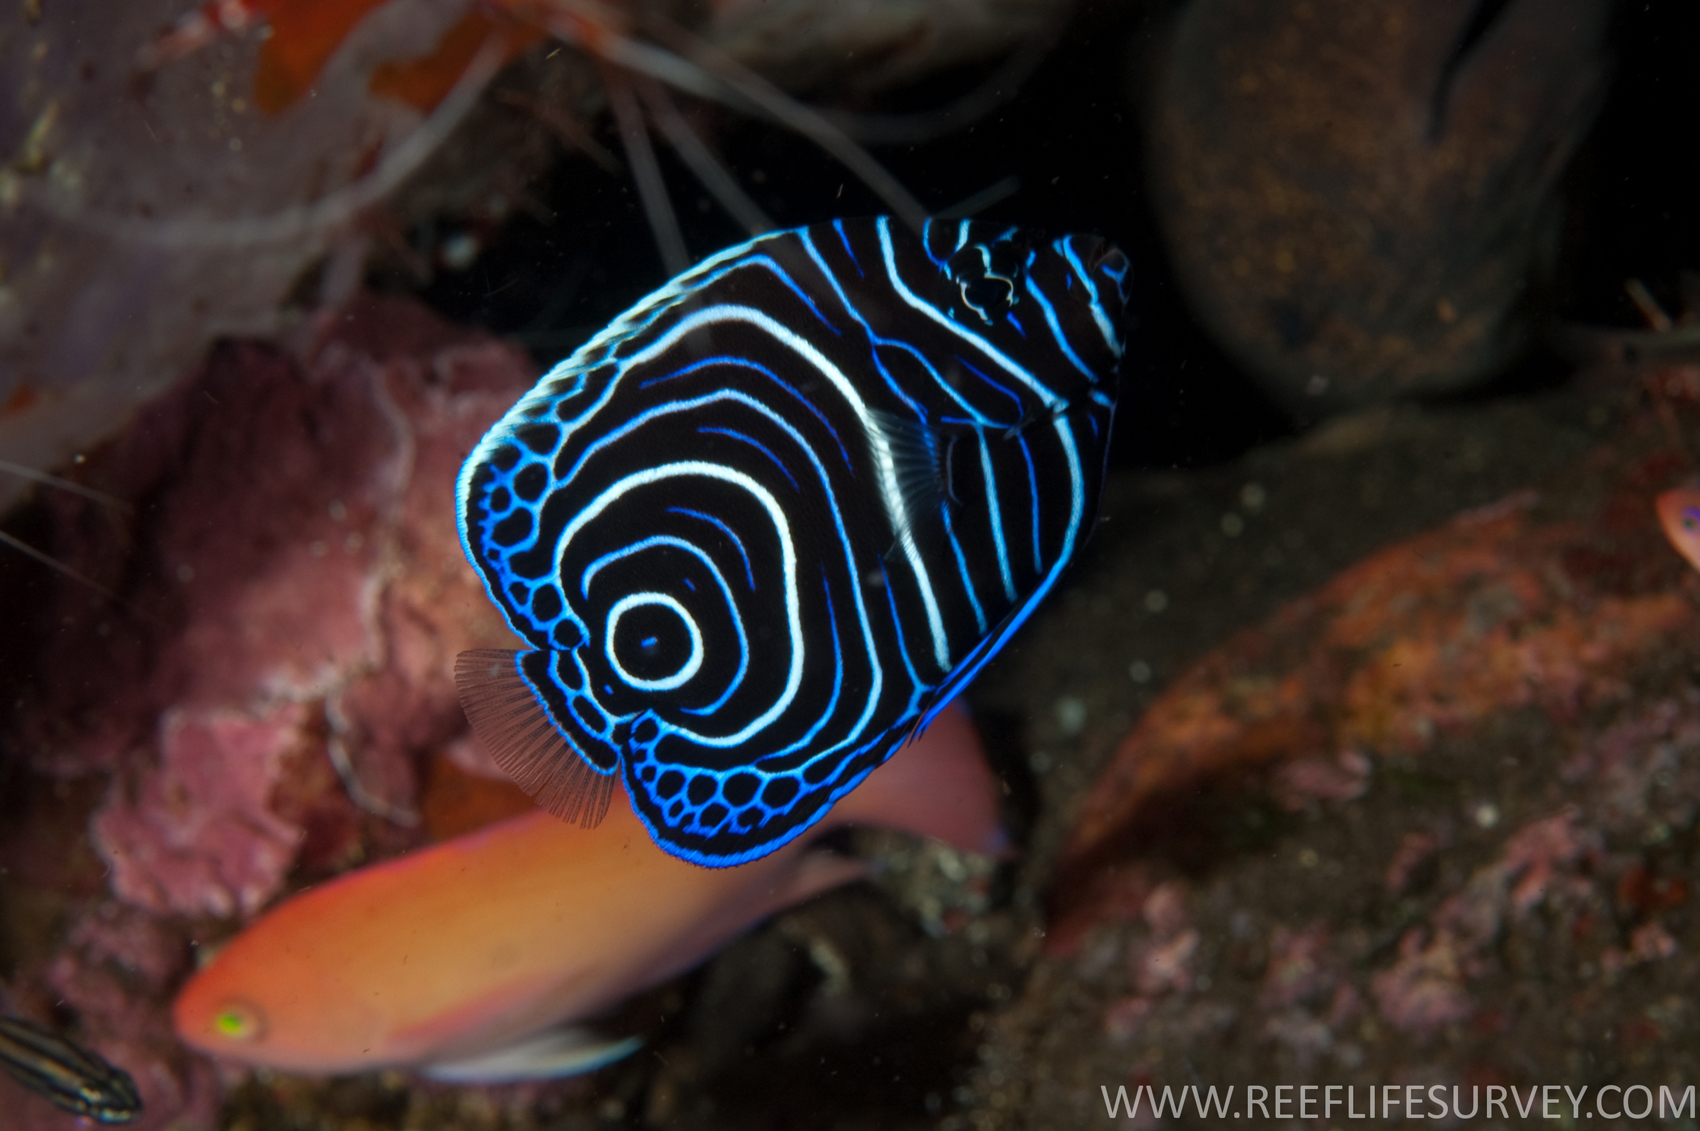Pomacanthus_imperator: (456, 191, 1154, 853)
